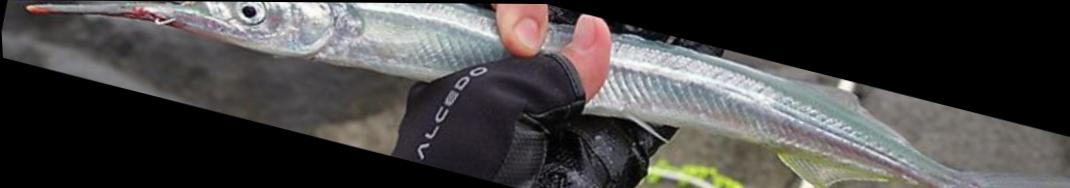fish: (27, 1, 1070, 188)
